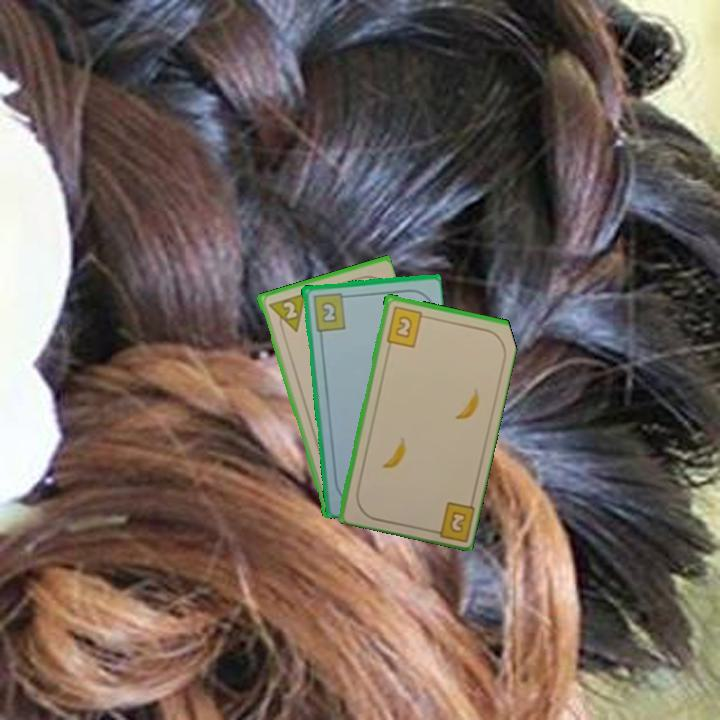2b: (382, 302, 431, 350), (425, 498, 476, 542), (309, 289, 351, 334)
2p: (264, 290, 308, 337)
